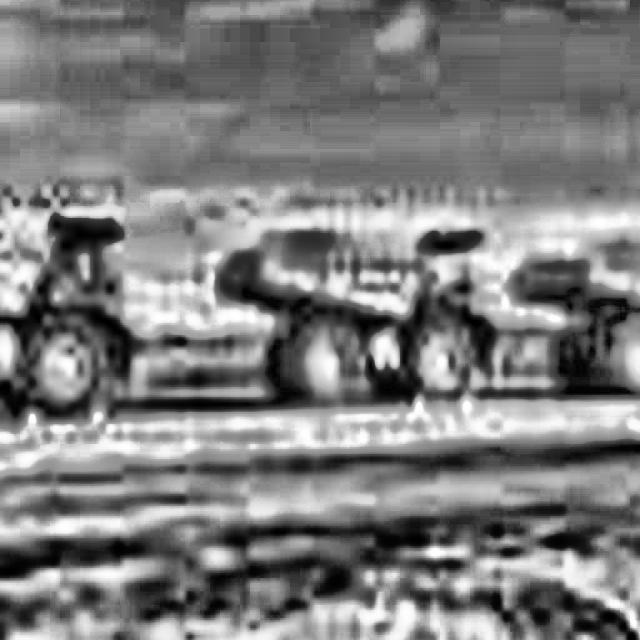dump_truck: (216, 183, 502, 438), (0, 154, 142, 449), (511, 230, 640, 416)
